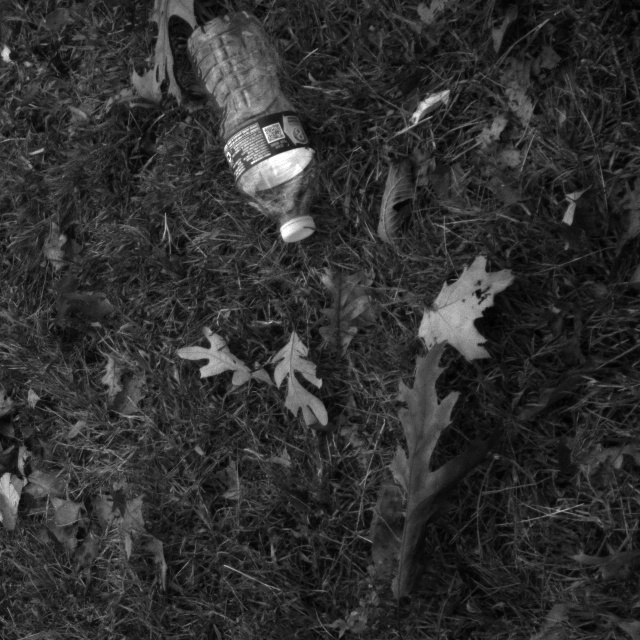bottle: (179, 10, 332, 254)
